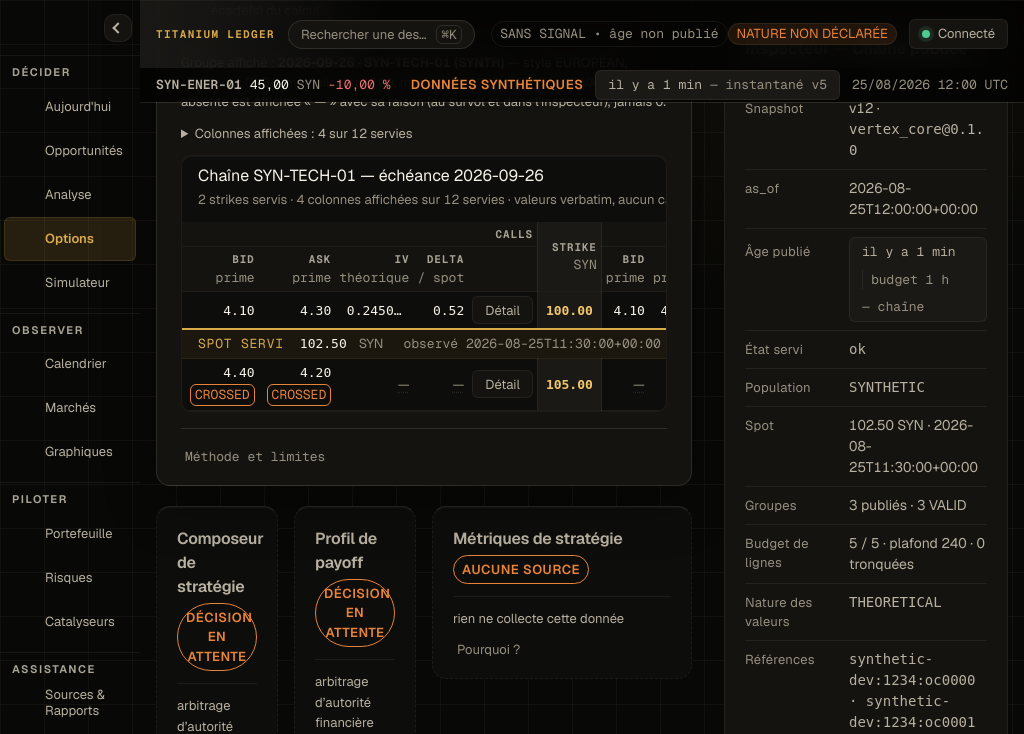
Test: Page Options — état nominal › IV absente : cellule « — » avec la raison typée, jamais 0
The width and height of the screenshot is (1024, 734).
(page scrolled)
expect the picture named "crossed_quote" reads "—": met, box [398,376,409,392]
expect the text "CROSSED" below "4.40" is shown: met, box [195,386,250,403]
Click the button with aria-label "Inspecter CALL strike 105.00": (503, 384) [472,370,533,398]
(page scrolled)
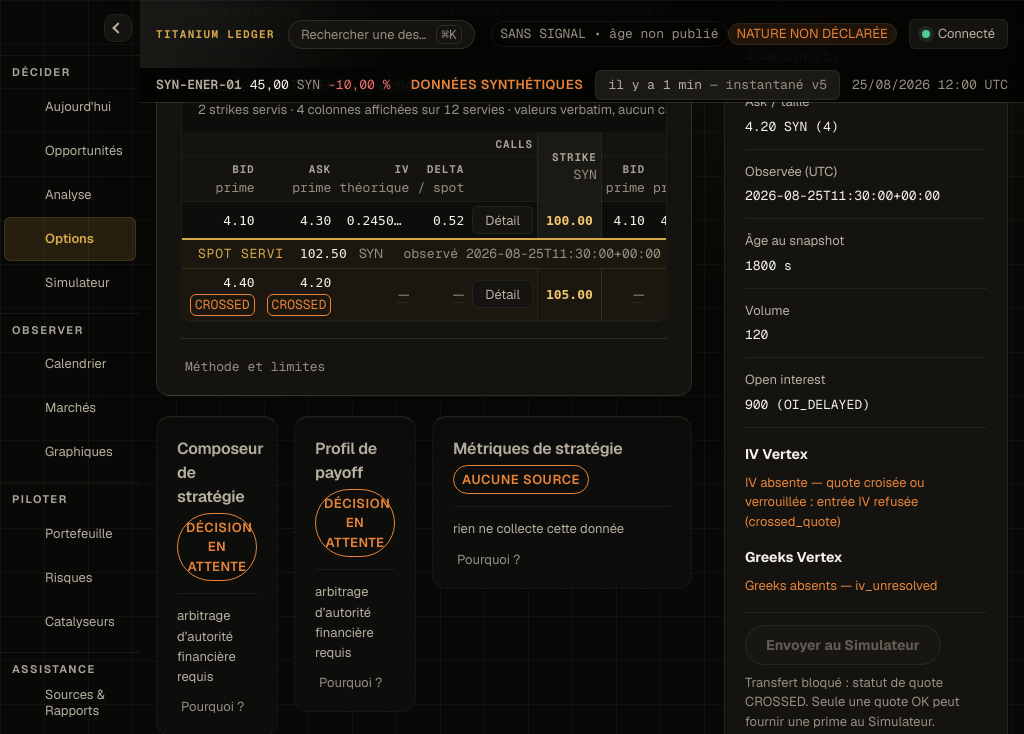
expect the button "Envoyer au Simulateur" is disabled: met, box [745,624,941,664]
expect the text "Transfert bloqué : statut de quote CROSSED" is shown: met, box [745,674,960,730]
